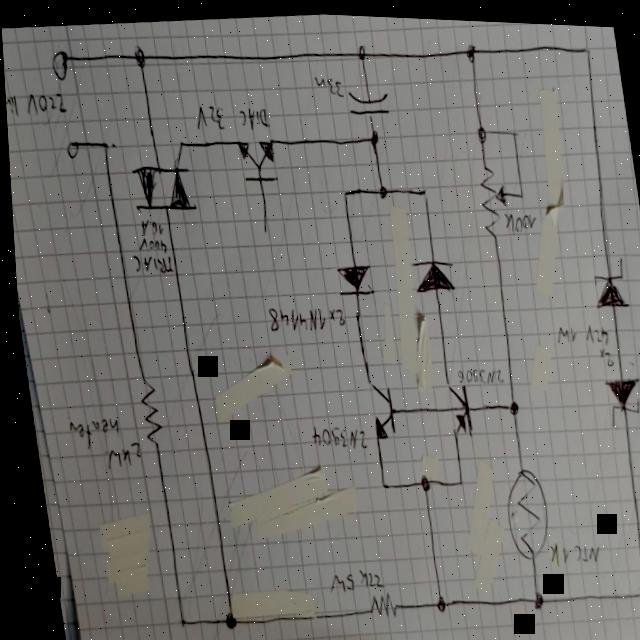capacitor: (341, 84, 392, 116)
diode: (584, 248, 628, 306), (597, 367, 640, 423), (405, 251, 454, 293), (329, 256, 372, 295)
junction: (131, 45, 146, 67), (215, 608, 230, 629), (473, 119, 487, 141), (523, 586, 538, 606), (412, 470, 426, 489), (464, 38, 476, 58), (427, 590, 439, 609), (367, 125, 379, 144), (356, 40, 367, 59), (374, 180, 386, 197), (503, 394, 514, 412), (507, 123, 518, 138), (417, 182, 427, 198), (582, 38, 592, 53), (373, 474, 382, 488), (175, 135, 184, 149), (514, 183, 523, 196), (170, 614, 178, 628), (450, 471, 458, 484), (338, 185, 346, 197), (99, 140, 107, 151), (633, 583, 640, 595)
resistor: (492, 460, 547, 559), (471, 156, 509, 236), (130, 373, 160, 447), (358, 587, 392, 619)
terminal: (47, 45, 71, 84), (62, 137, 79, 161)
text: (60, 412, 117, 452), (261, 298, 323, 333), (304, 417, 362, 452), (21, 86, 68, 120), (97, 436, 139, 470), (126, 249, 171, 277), (452, 359, 500, 385), (227, 102, 270, 131), (190, 99, 225, 132), (499, 204, 536, 230), (311, 68, 344, 97), (579, 313, 606, 342), (564, 535, 595, 560), (349, 562, 378, 588), (319, 567, 348, 593), (133, 233, 165, 255), (540, 535, 563, 563), (550, 317, 574, 341), (134, 215, 161, 236), (322, 301, 343, 325), (4, 90, 19, 120), (592, 340, 610, 364)
transistor: (361, 375, 393, 438), (438, 376, 469, 437)
